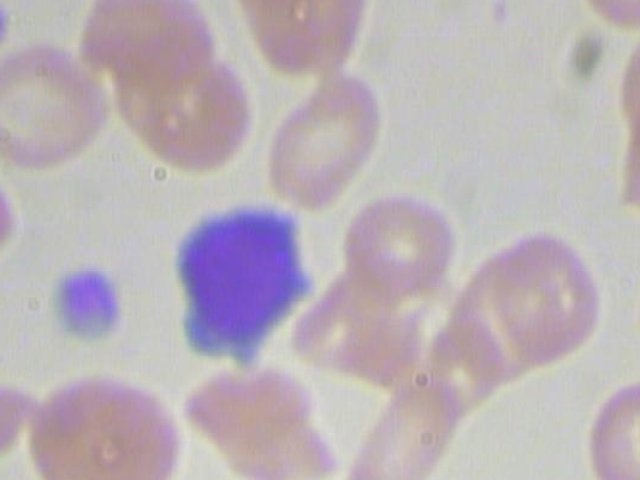Platelets: (36, 259, 128, 357), (0, 0, 17, 57)
RBC: (256, 66, 387, 209), (25, 369, 187, 480), (0, 39, 116, 184), (338, 193, 456, 307), (0, 374, 29, 469), (0, 165, 17, 289)
WBC: (171, 188, 310, 371)
